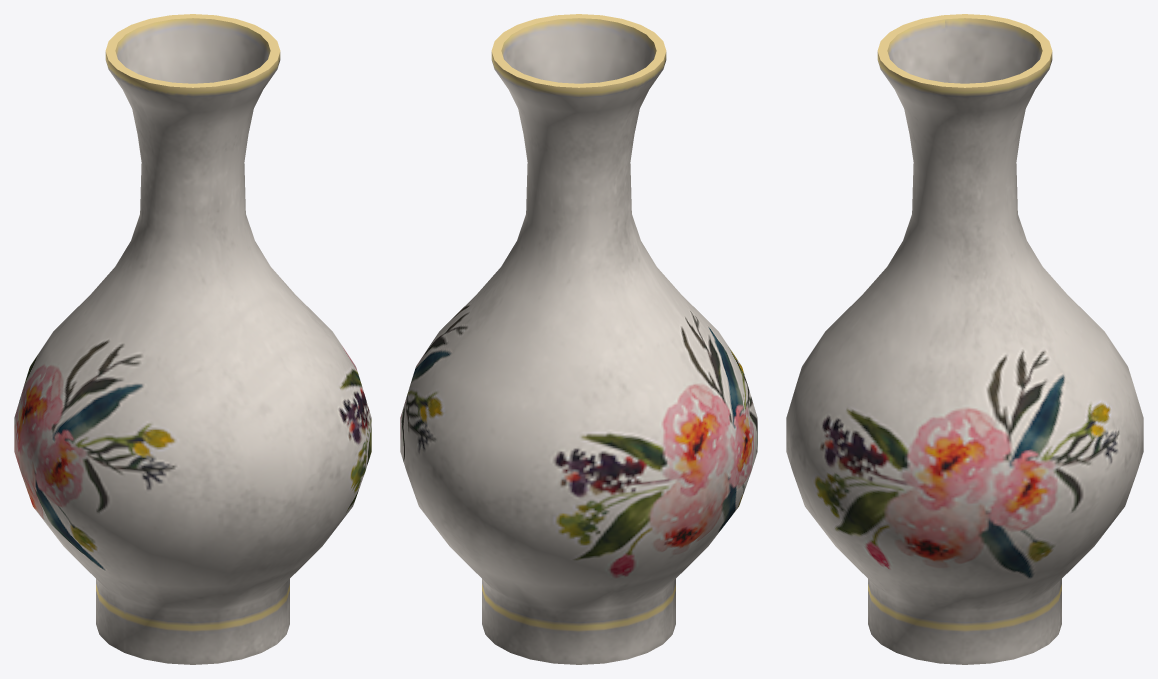
Rendered from vaso.glb.
The picture shows the model from 3 angles, left to right: view 1: azimuth 30°, elevation 25°; view 2: azimuth 150°, elevation 25°; view 3: azimuth 270°, elevation 25°; orthographic projection.
Parts seen in each view (by area): view 1: vaso; view 2: vaso; view 3: vaso.
Part boxes in pixels (bbox=[...]): vaso: bbox=[14, 14, 371, 664]; vaso: bbox=[400, 14, 757, 664]; vaso: bbox=[786, 14, 1143, 664].
Bounding box in the file's own units: 2.2 × 3.89 × 2.2.
1 material, 1 textured.
